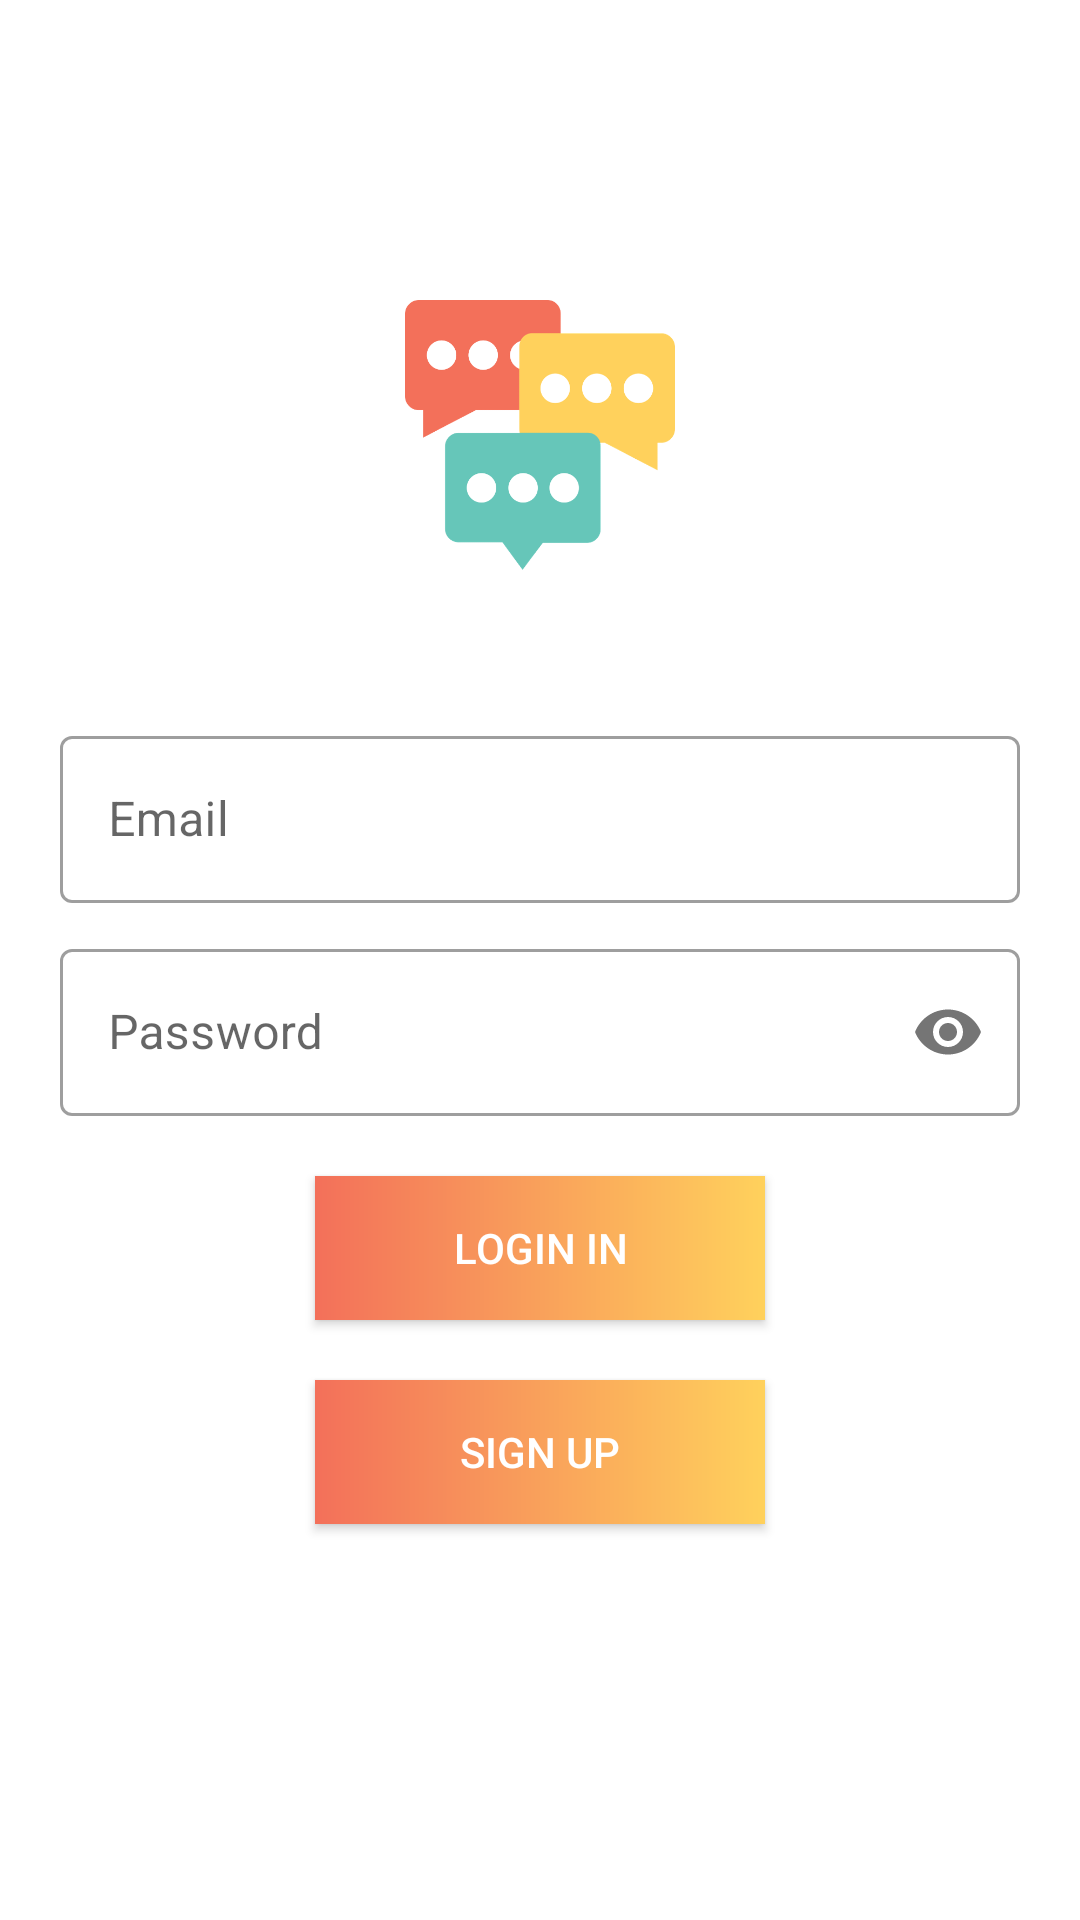

Icon bounding boxes for this 1080*1920 phone screenshot, format (x1, y1, x2, y2):
chat: (405, 300, 675, 570)
